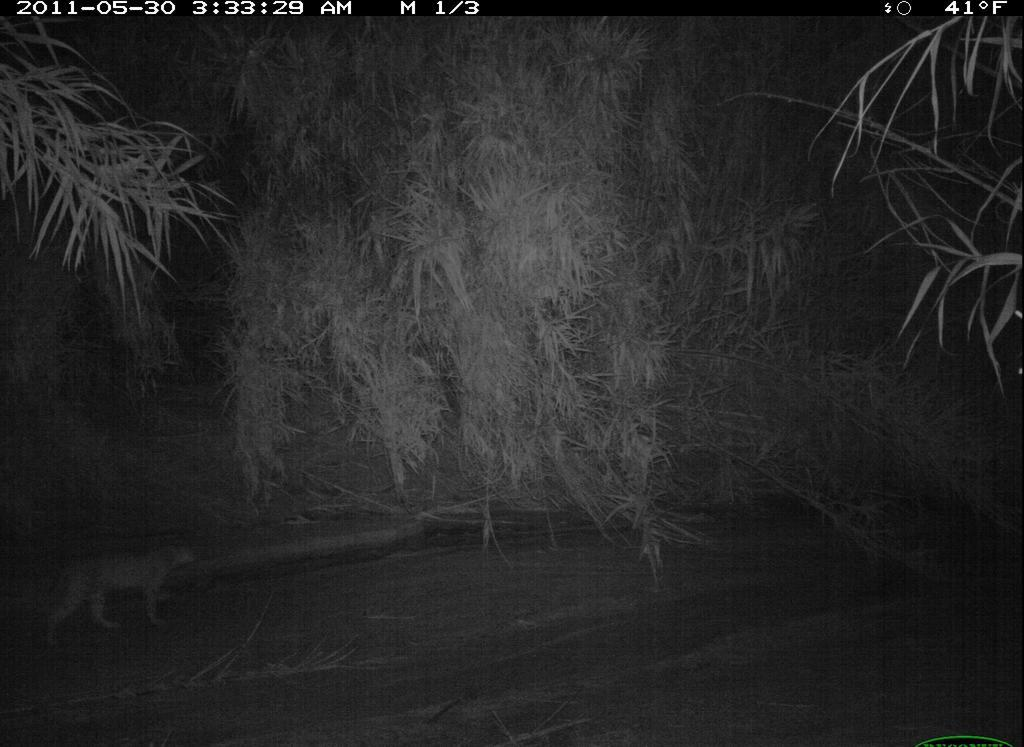bobcat: (40, 539, 216, 656)
